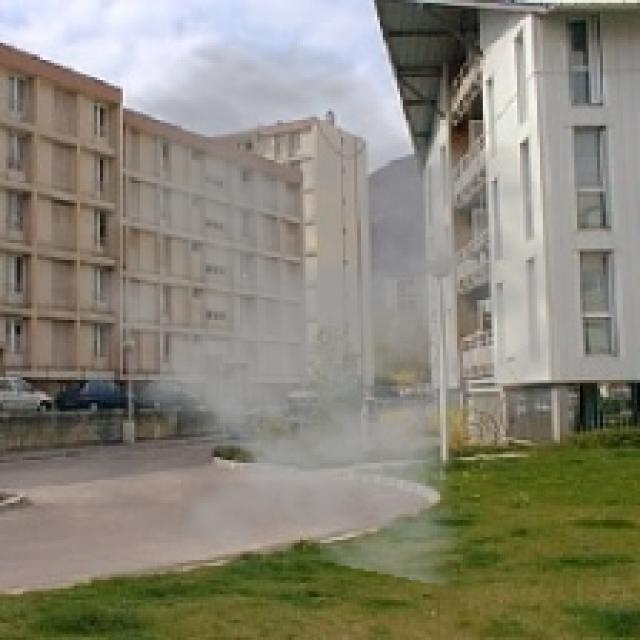smoke: (37, 34, 603, 589)
